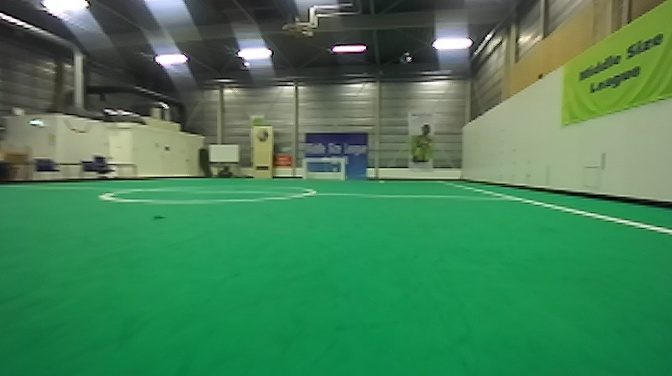goalpost: (297, 154, 312, 183), (337, 153, 346, 182)
